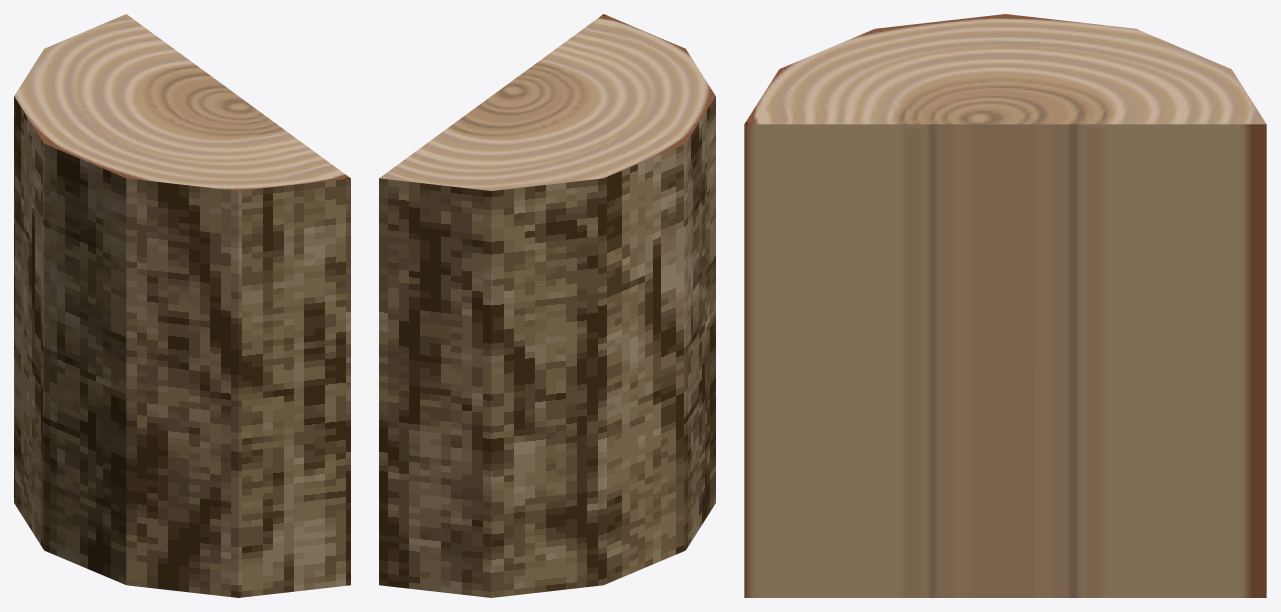
File: half-log.glb
3 views of the same model, side by side, from view 1: azimuth 30°, elevation 25°; view 2: azimuth 150°, elevation 25°; view 3: azimuth 270°, elevation 25° (orthographic). The views are drawn at different scales.
Parts seen in each view (by area): view 1: Cylinder; view 2: Cylinder; view 3: Cylinder.
Boxes of the visible parts, left/top/right/bottom form: Cylinder: left=14, top=14, right=350, bottom=597; Cylinder: left=379, top=14, right=715, bottom=597; Cylinder: left=744, top=14, right=1266, bottom=597.
Size of the model in its own units: 1 by 2 by 2.
Materials: 3 (3 with a texture image).
